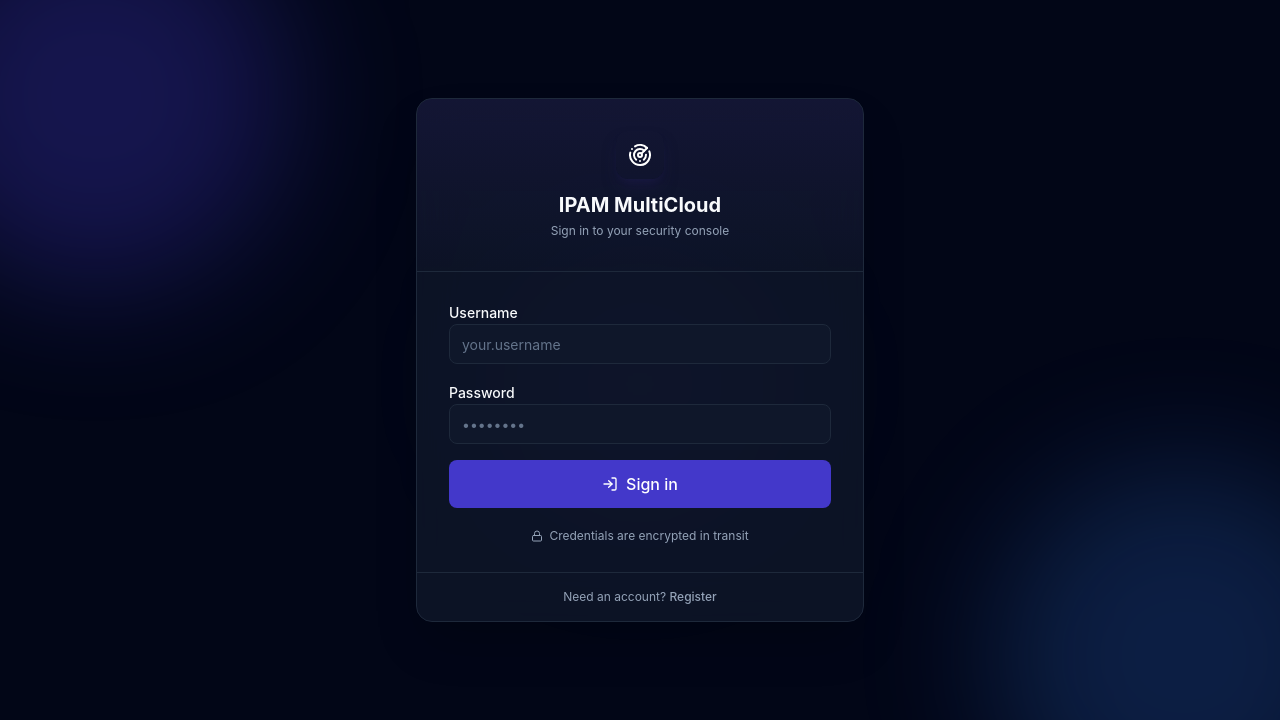
Test case: Login submission › shows the error message when the API rejects the login
Type "admin" into the field with placeholder "your.username" at (640, 344), box x1=449 y1=324 x2=831 y2=364
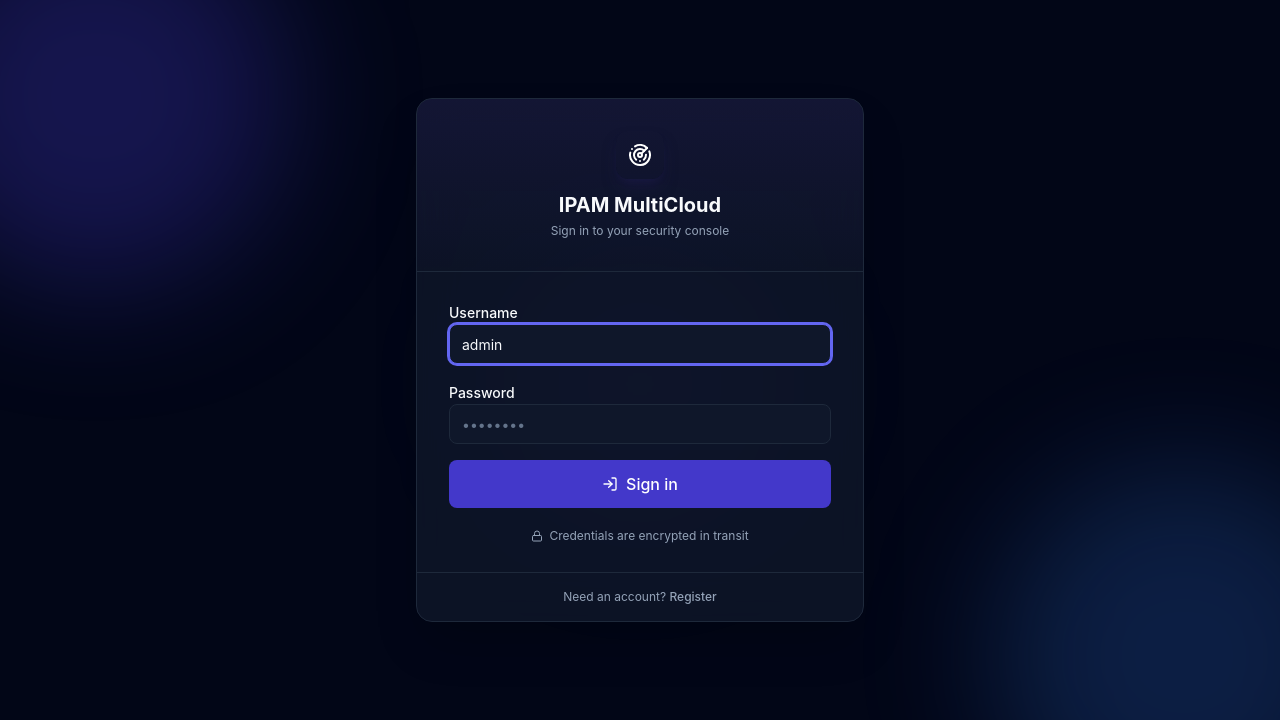
Type "wrong" into the password field with placeholder "••••••••" at (640, 424), box x1=449 y1=404 x2=831 y2=444
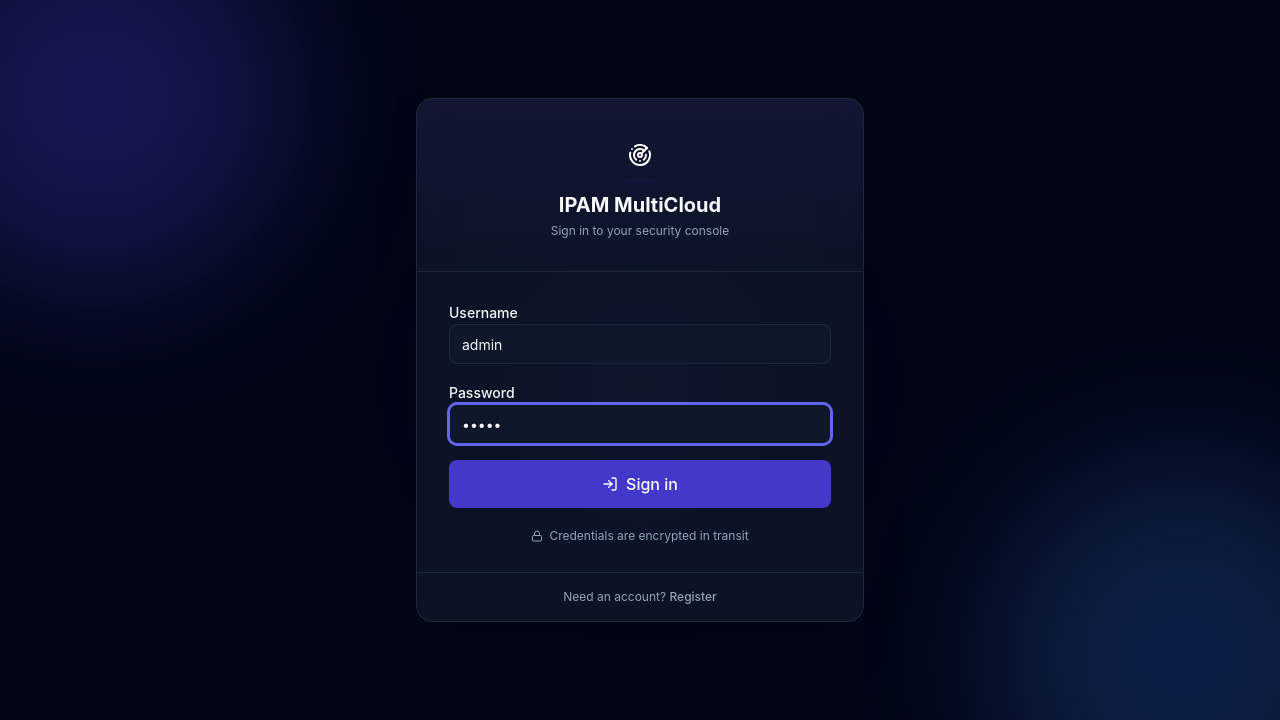
Click the button "Sign in" at (640, 484), box x1=449 y1=460 x2=831 y2=508
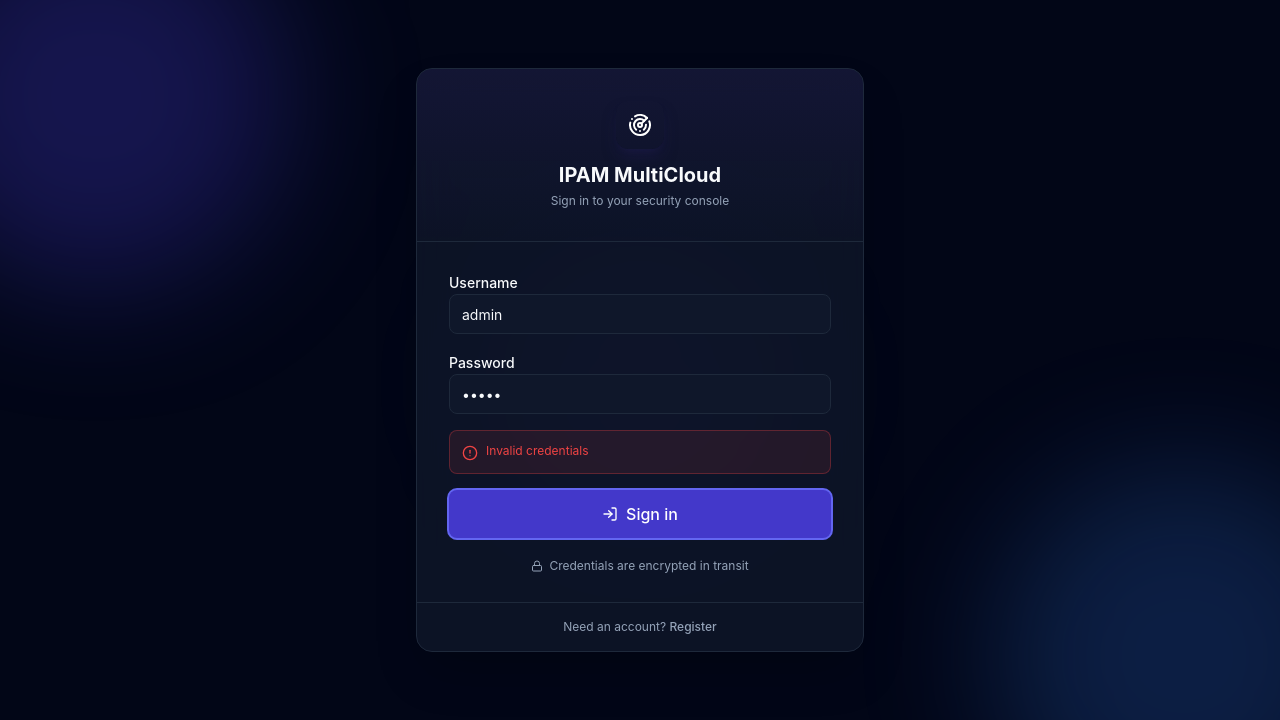
expect the text "Invalid credentials" is shown: met, box x1=486 y1=443 x2=588 y2=458
